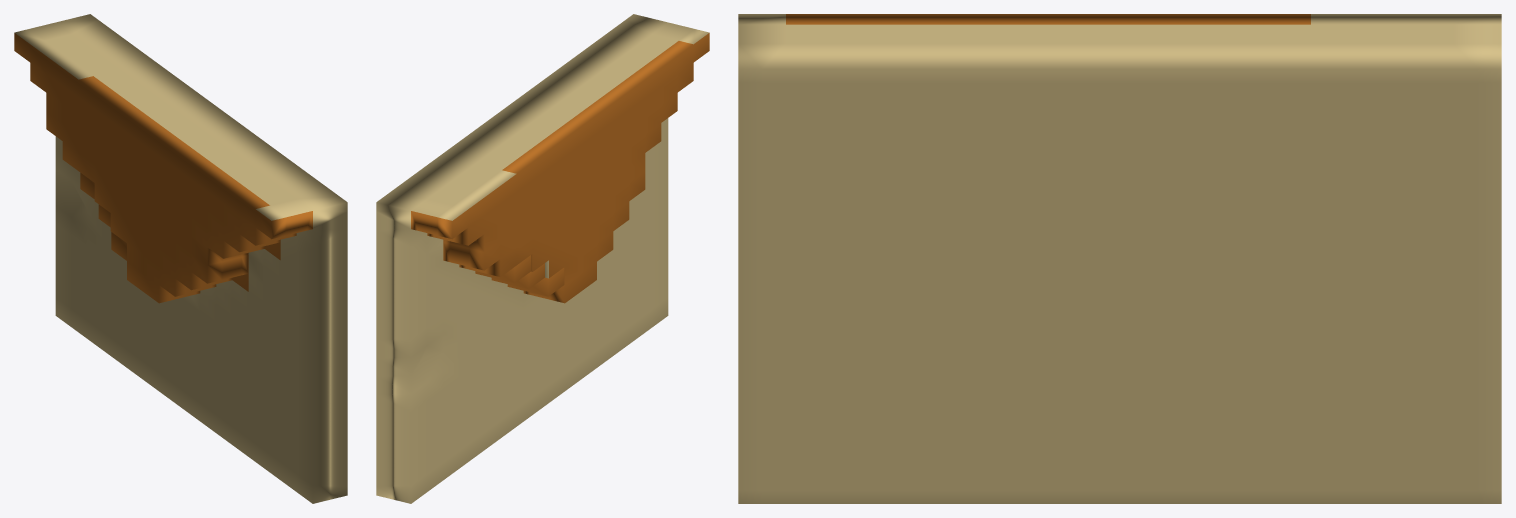
Rendered from pheromone.dae.
The picture shows the model from 3 angles, left to right: view 1: azimuth 30°, elevation 25°; view 2: azimuth 150°, elevation 25°; view 3: azimuth 270°, elevation 25°; orthographic projection. The views are drawn at different scales.
Visible parts, largest first — view 1: Cube; view 2: Cube; view 3: Cube.
Part boxes in pixels (bbox=[...]): Cube: bbox=[14, 14, 347, 503]; Cube: bbox=[376, 14, 709, 503]; Cube: bbox=[738, 14, 1501, 503].
Size of the model in its own units: 0.2696 by 1.58 by 0.9922.
